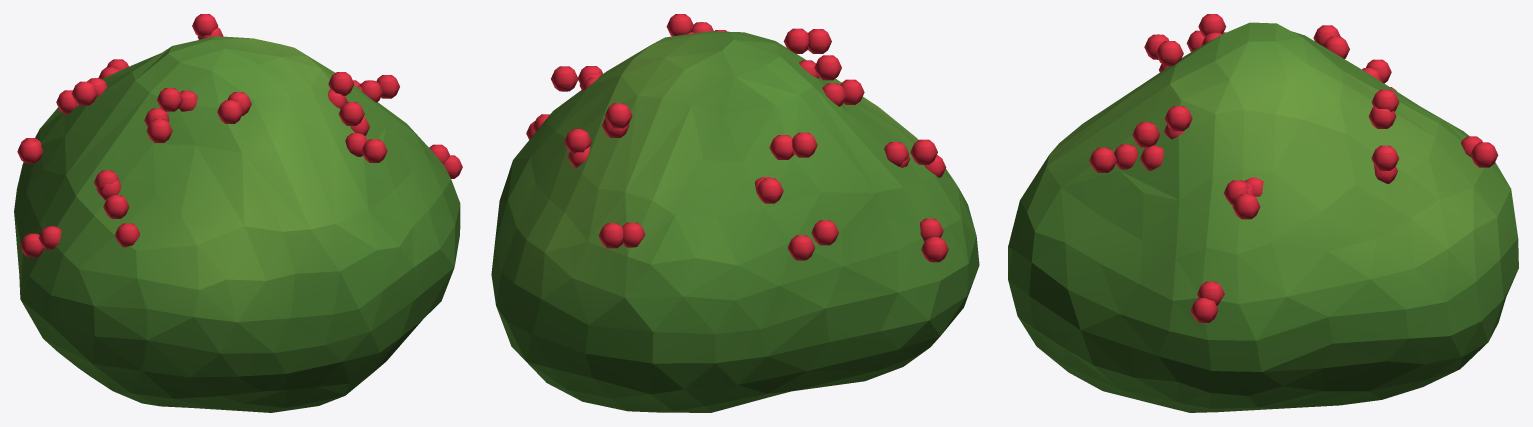
File: berry_bush.glb
3 views of the same model, side by side, from view 1: azimuth 30°, elevation 25°; view 2: azimuth 150°, elevation 25°; view 3: azimuth 270°, elevation 25° (orthographic). The views are drawn at different scales.
Visible parts, largest first — view 1: BerryBushLeaves, Berries; view 2: BerryBushLeaves, Berries; view 3: BerryBushLeaves, Berries.
Boxes of the visible parts, x1,y1,x2,y2 form: BerryBushLeaves: [14, 36, 460, 412]; Berries: [17, 14, 462, 257]; BerryBushLeaves: [491, 31, 979, 412]; Berries: [526, 14, 948, 262]; BerryBushLeaves: [1008, 22, 1518, 412]; Berries: [1089, 14, 1498, 322].
Bounding box in the file's own units: 1.64 × 1.19 × 1.64.
